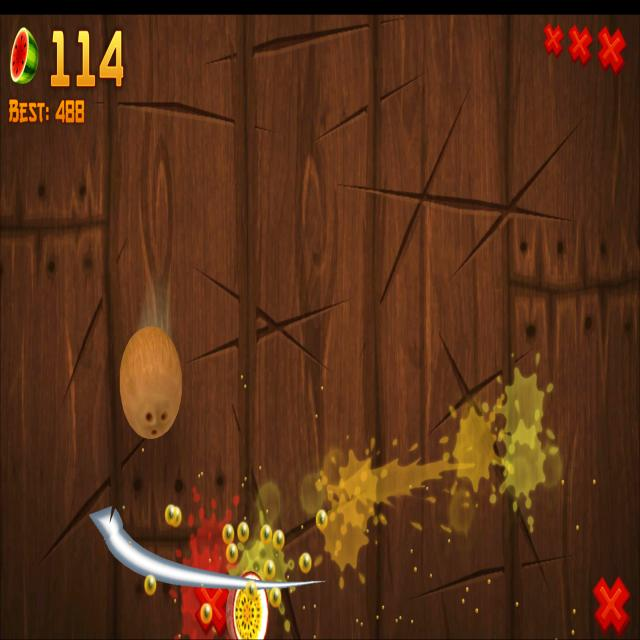fruit: (119, 325, 183, 443)
